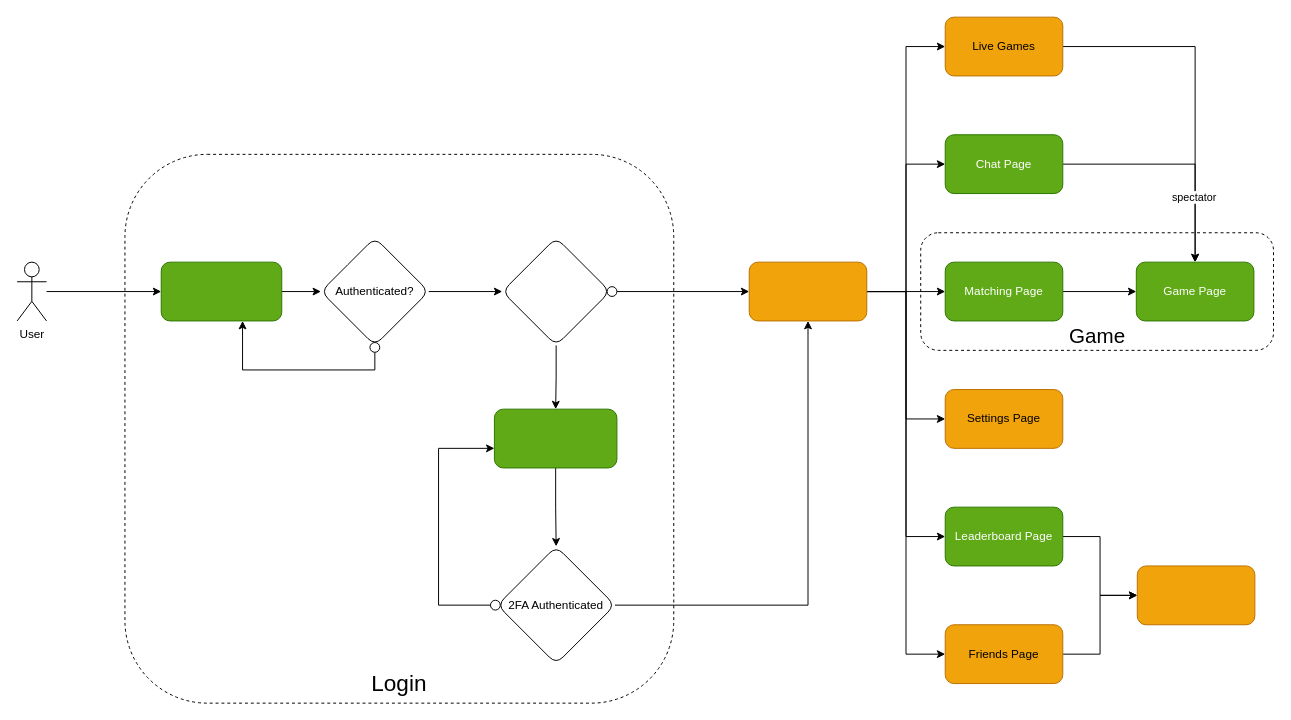
The diagram is 1291 pixels wide and 720 high, and some of its shapes have lost their labels. Each missing label, with the centre of its shape:
"2FA activated?" belongs at (x=555, y=291).
"2FA Login Page" belongs at (x=555, y=438).
"Login Page" belongs at (x=221, y=291).
"User Profile" belongs at (x=1195, y=595).
"Welcome Page" belongs at (x=807, y=291).
